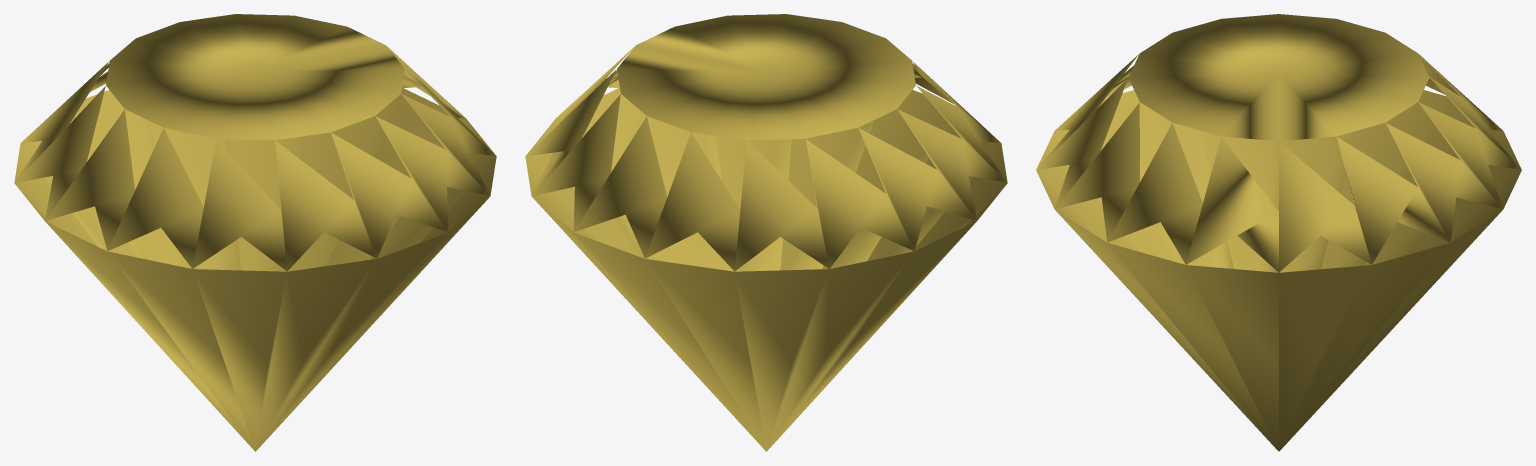
File: brilliant-yellow.glb
The picture shows the model from 3 angles, left to right: view 1: azimuth 30°, elevation 25°; view 2: azimuth 150°, elevation 25°; view 3: azimuth 270°, elevation 25°; orthographic projection.
Visible parts, largest first — view 1: gem; view 2: gem; view 3: gem.
Part boxes in pixels (<box>): gem: <box>14,14,496,451</box>; gem: <box>525,14,1007,451</box>; gem: <box>1036,14,1521,451</box>.
Size of the model in its own units: 2 by 1.72 by 2.
